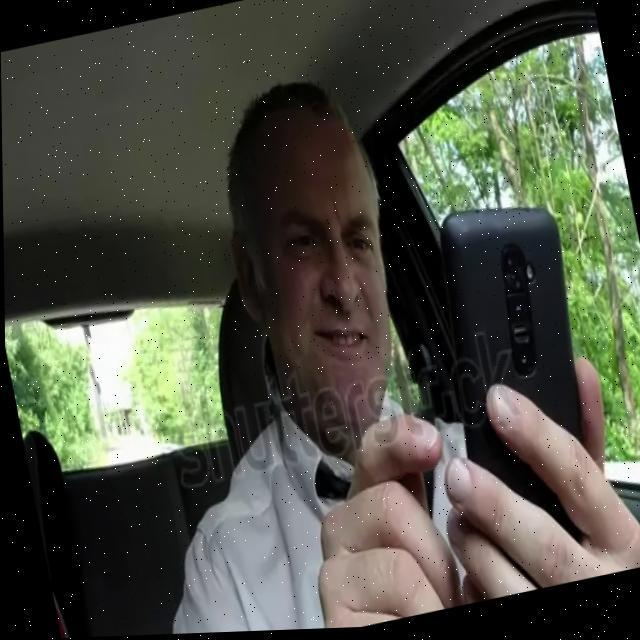PhoneCall: (426, 189, 616, 568)
